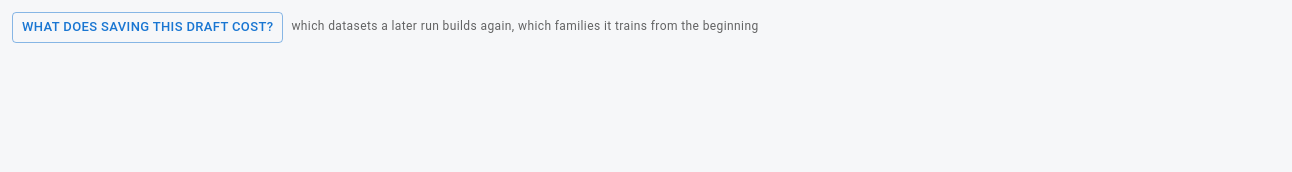
it: what saving the draft would cost › says that it could not be worked out, in the server's words
Click the button with test id "consequences-check" at (148, 27), box left=12, top=12, right=283, bottom=43
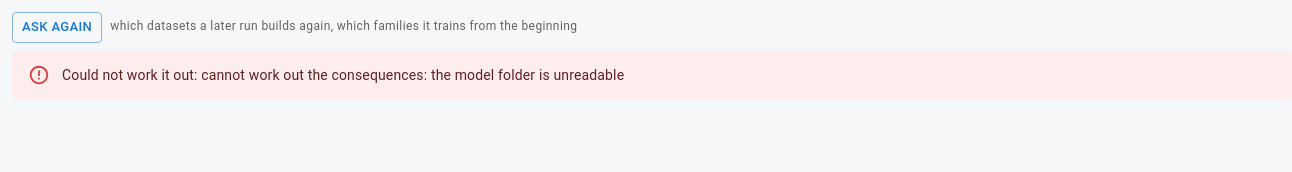
Check: the text "the model folder is unreadable" is shown, box left=201, top=67, right=624, bottom=83
